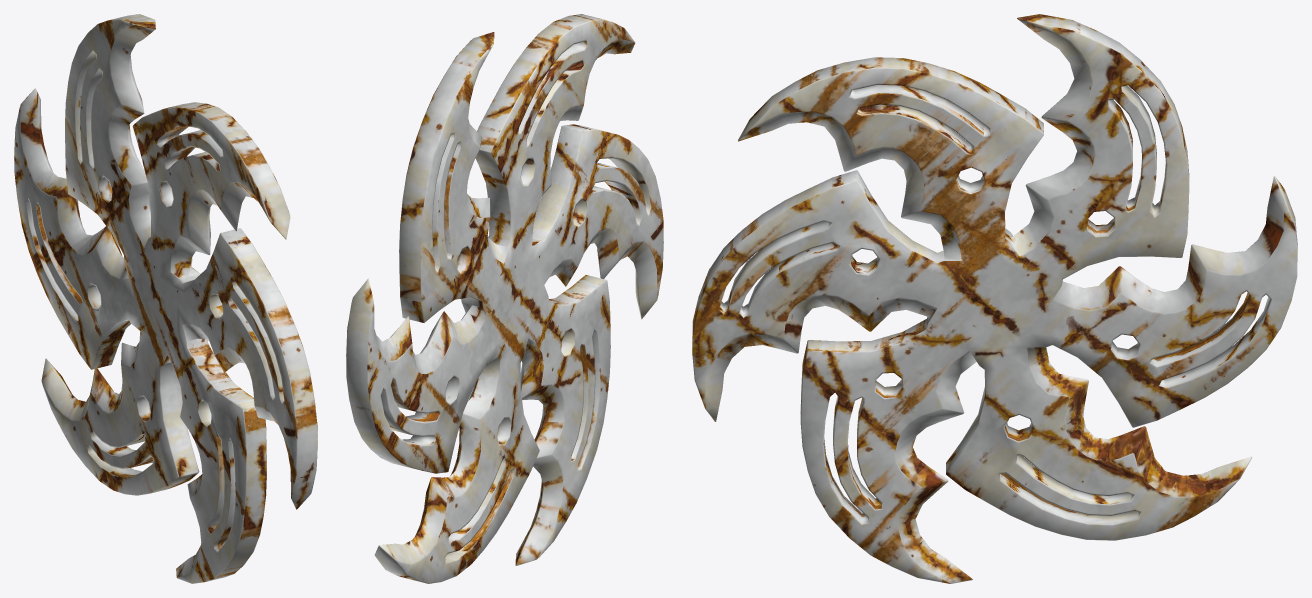
File: shuriken_2.fbx
The picture shows the model from 3 angles, left to right: view 1: azimuth 30°, elevation 25°; view 2: azimuth 150°, elevation 25°; view 3: azimuth 270°, elevation 25°; orthographic projection. The views are drawn at different scales.
Visible parts, largest first — view 1: Shuriken_Ninja_Star_Collection_Vol_03_016; view 2: Shuriken_Ninja_Star_Collection_Vol_03_016; view 3: Shuriken_Ninja_Star_Collection_Vol_03_016.
Part boxes in pixels (x1,y1,x2,y2): Shuriken_Ninja_Star_Collection_Vol_03_016: (14,14,317,583); Shuriken_Ninja_Star_Collection_Vol_03_016: (346,14,663,583); Shuriken_Ninja_Star_Collection_Vol_03_016: (692,14,1297,583).
Bounding box in the file's own units: 1.71 × 40.33 × 39.34.
